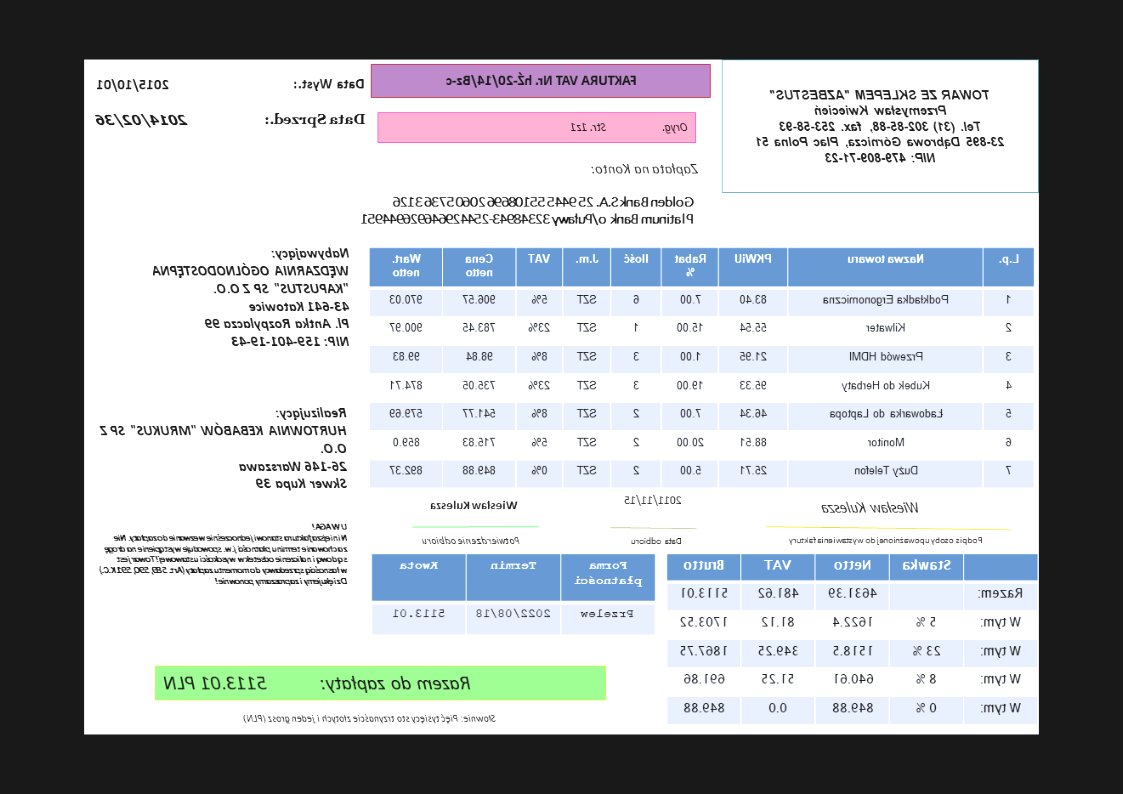Table: (370, 245, 1035, 487), (666, 553, 1038, 725), (371, 553, 657, 636)
TextBox: (98, 404, 349, 491), (148, 246, 351, 350), (752, 88, 1007, 167), (96, 520, 350, 587), (358, 194, 695, 227), (162, 672, 474, 693), (444, 70, 638, 90), (241, 712, 497, 726), (787, 533, 984, 547), (589, 160, 701, 179), (262, 111, 366, 130), (819, 498, 921, 517), (94, 111, 189, 131), (569, 120, 690, 134), (428, 496, 520, 513), (420, 534, 522, 547), (95, 77, 171, 93), (292, 77, 366, 93), (622, 492, 684, 508), (631, 535, 684, 547)
